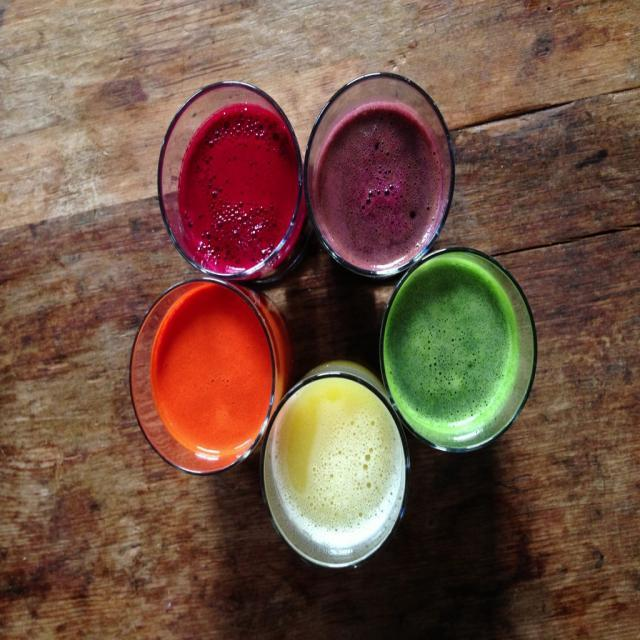Juice: (378, 244, 543, 468), (123, 276, 295, 480), (262, 352, 412, 581), (301, 70, 457, 285), (160, 100, 316, 282)
